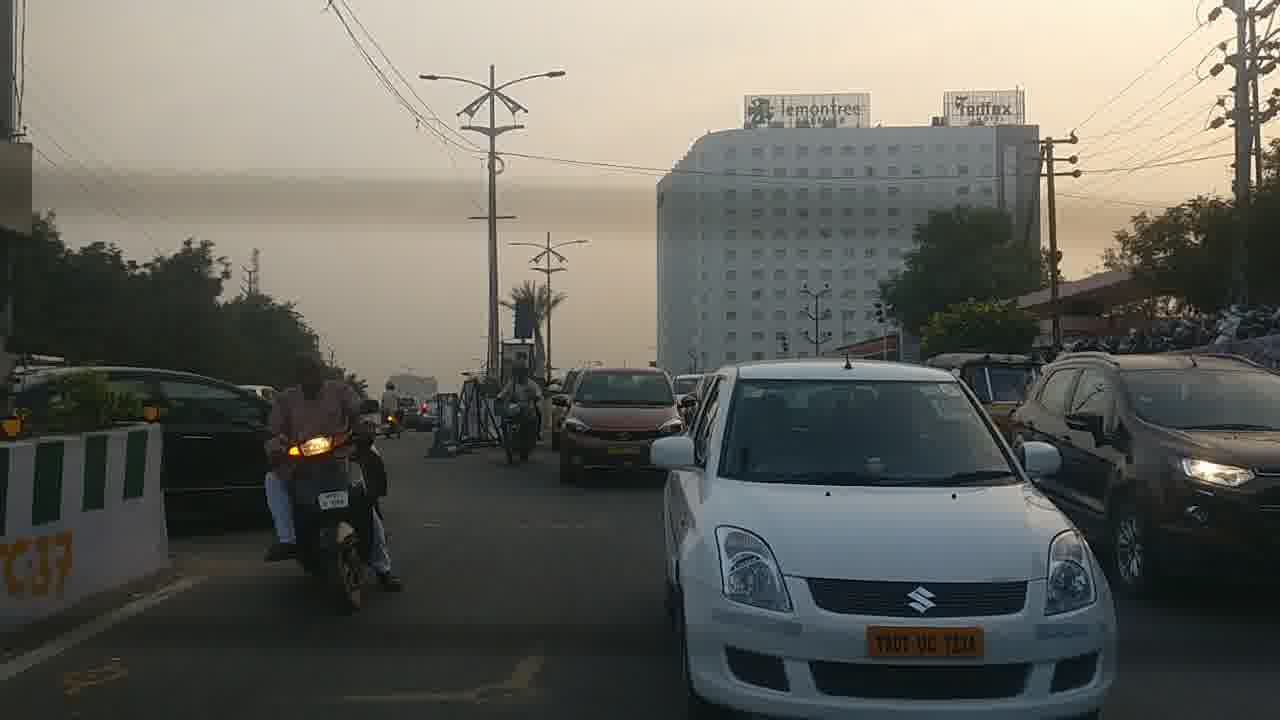swift desire: (669, 371, 1109, 720)
